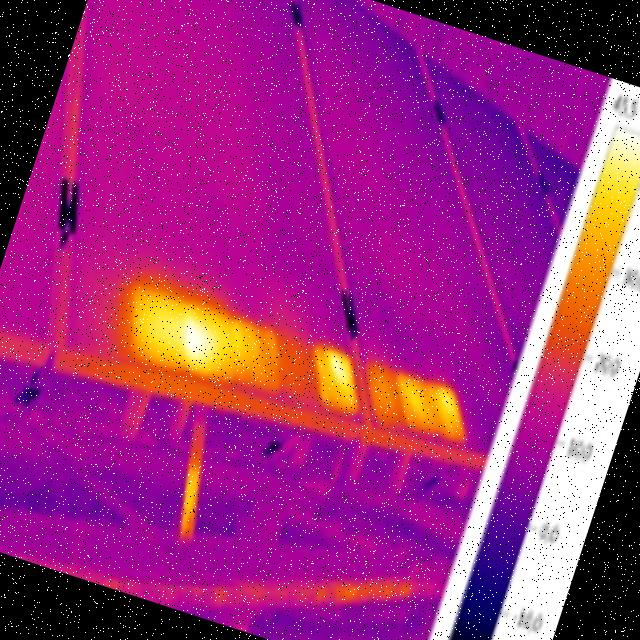Hotspot: (102, 266, 304, 415), (353, 350, 485, 452), (292, 329, 381, 424), (603, 125, 640, 171)
